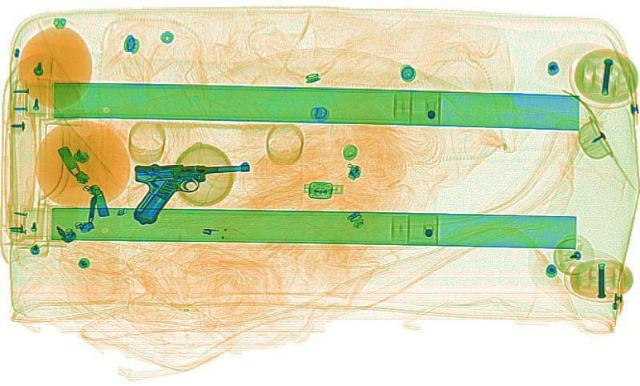Gun: (132, 163, 250, 221)
